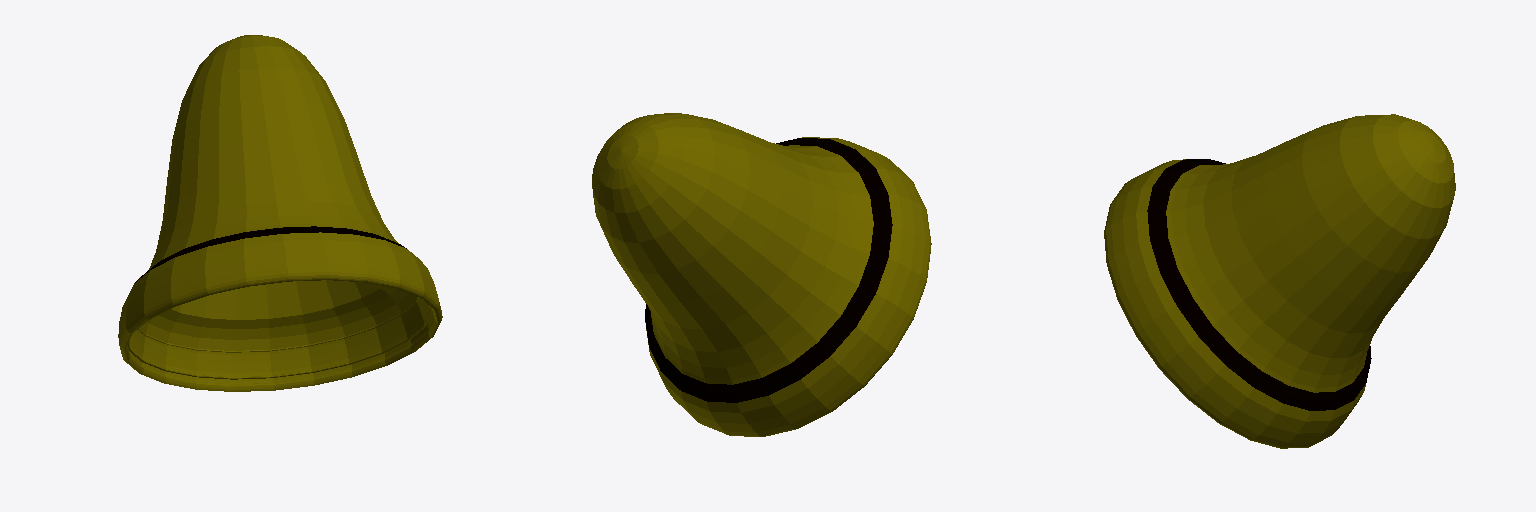
3 renders of one model, left to right at view 1: azimuth 30°, elevation 25°; view 2: azimuth 150°, elevation 25°; view 3: azimuth 270°, elevation 25°, orthographic.
Visible parts, largest first — view 1: Bell_01; view 2: Bell_01; view 3: Bell_01.
Part boxes in pixels (bbox=[...]): Bell_01: bbox=[118, 35, 442, 391]; Bell_01: bbox=[592, 113, 931, 436]; Bell_01: bbox=[1104, 114, 1455, 448].
Bounding box in the file's own units: 1.94 × 2.18 × 2.16.
3 materials, 2 textured.